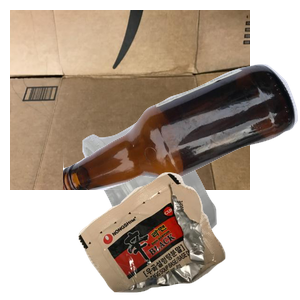cardboard: (10, 10, 250, 190)
glass: (63, 62, 300, 242)
plastic: (80, 120, 289, 300)
trash: (76, 170, 300, 300)
